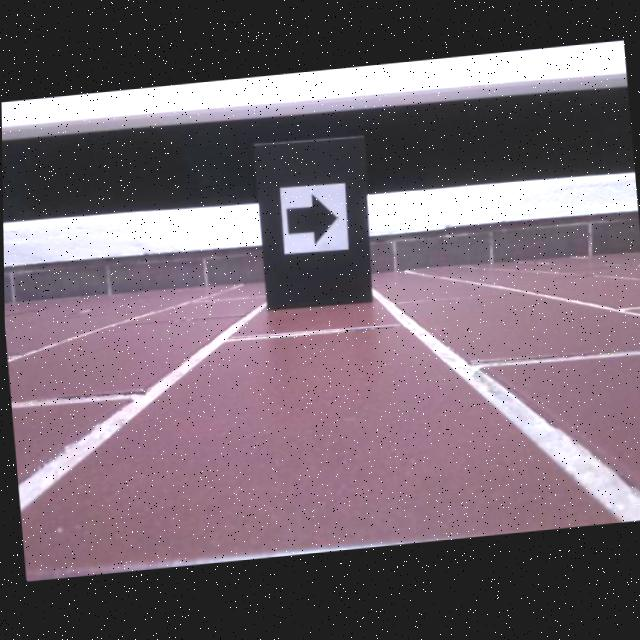RIGHT: (285, 195, 336, 245)
